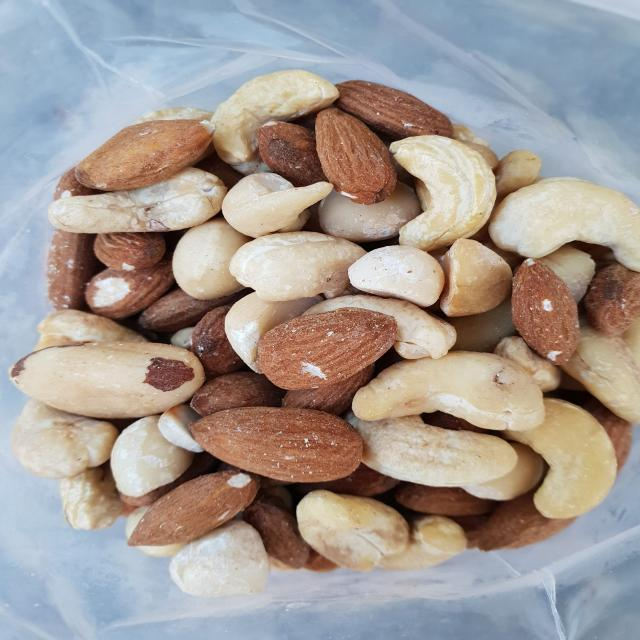Frutta secca: (9, 78, 638, 592)
